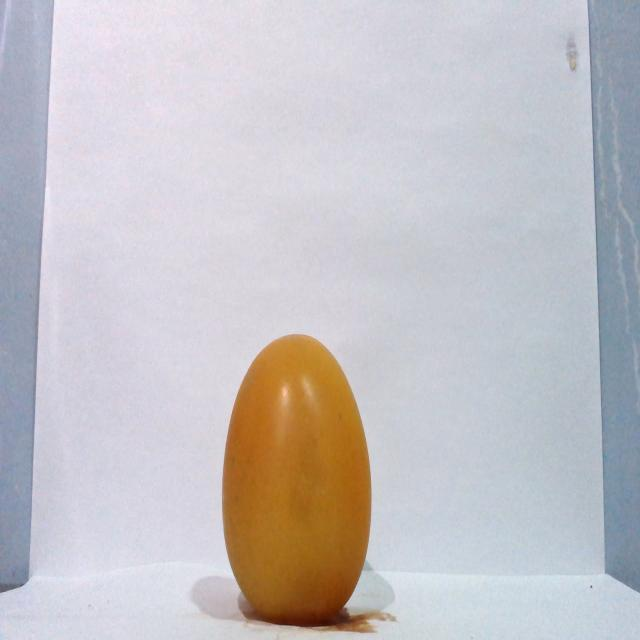Red: (220, 332, 373, 624)
